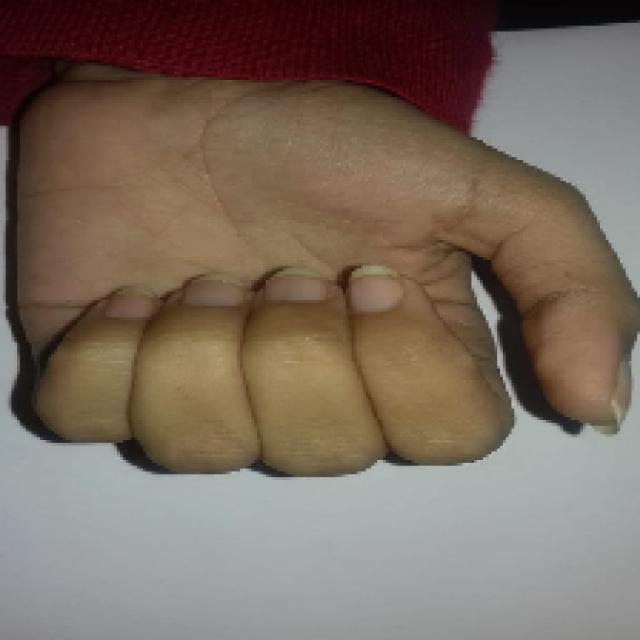Nail: (350, 265, 404, 314), (181, 272, 246, 306), (265, 269, 328, 301), (105, 285, 160, 319), (611, 354, 631, 427)
